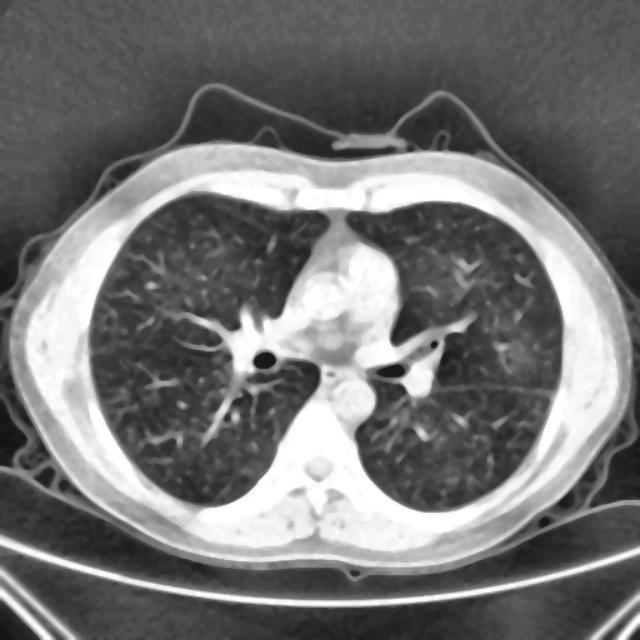covid: (2, 85, 638, 583)
